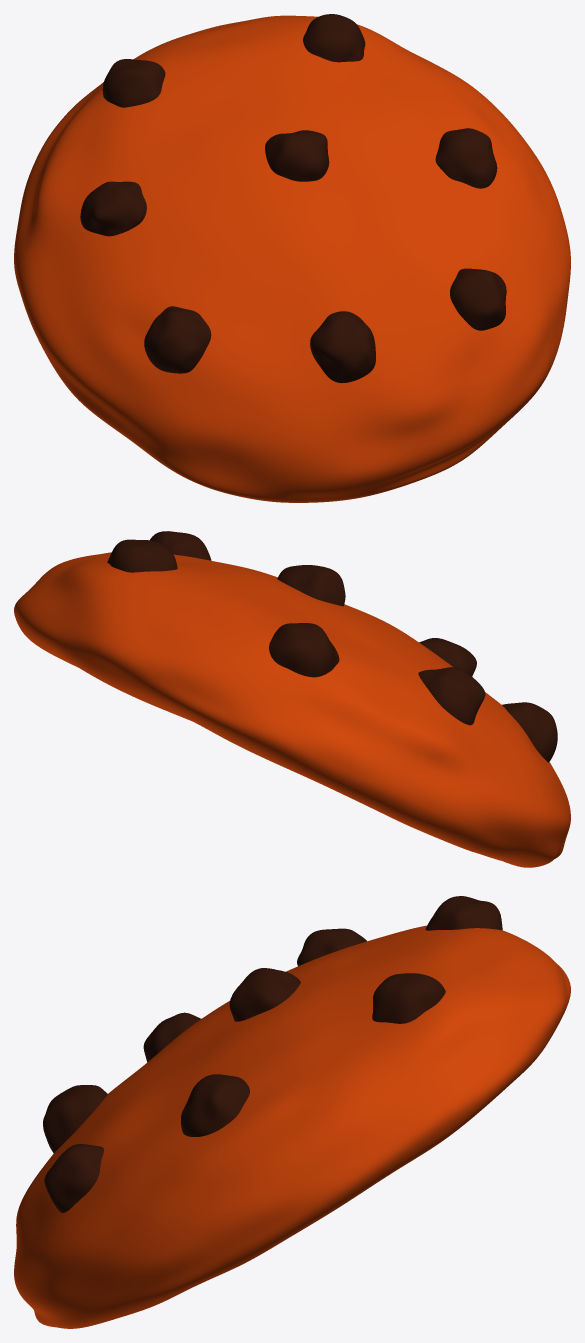
The model's file is Cookies.obj.
3 views of the same model, one above another, from view 1: azimuth 30°, elevation 25°; view 2: azimuth 150°, elevation 25°; view 3: azimuth 270°, elevation 25° (orthographic). The views are drawn at different scales.
Visible parts, largest first — view 1: Cookies_.002_Roundcube.013, Cookies__Cube.030; view 2: Cookies_.002_Roundcube.013, Cookies__Cube.030; view 3: Cookies_.002_Roundcube.013, Cookies__Cube.030.
Part boxes in pixels (box(x1,y1,x2,y2)): Cookies_.002_Roundcube.013: box(14, 15, 570, 502); Cookies__Cube.030: box(80, 14, 506, 383); Cookies_.002_Roundcube.013: box(14, 552, 570, 867); Cookies__Cube.030: box(107, 531, 557, 762); Cookies_.002_Roundcube.013: box(14, 925, 570, 1328); Cookies__Cube.030: box(43, 896, 502, 1212).
Size of the model in its own units: 8.36 by 5.63 by 7.37.
